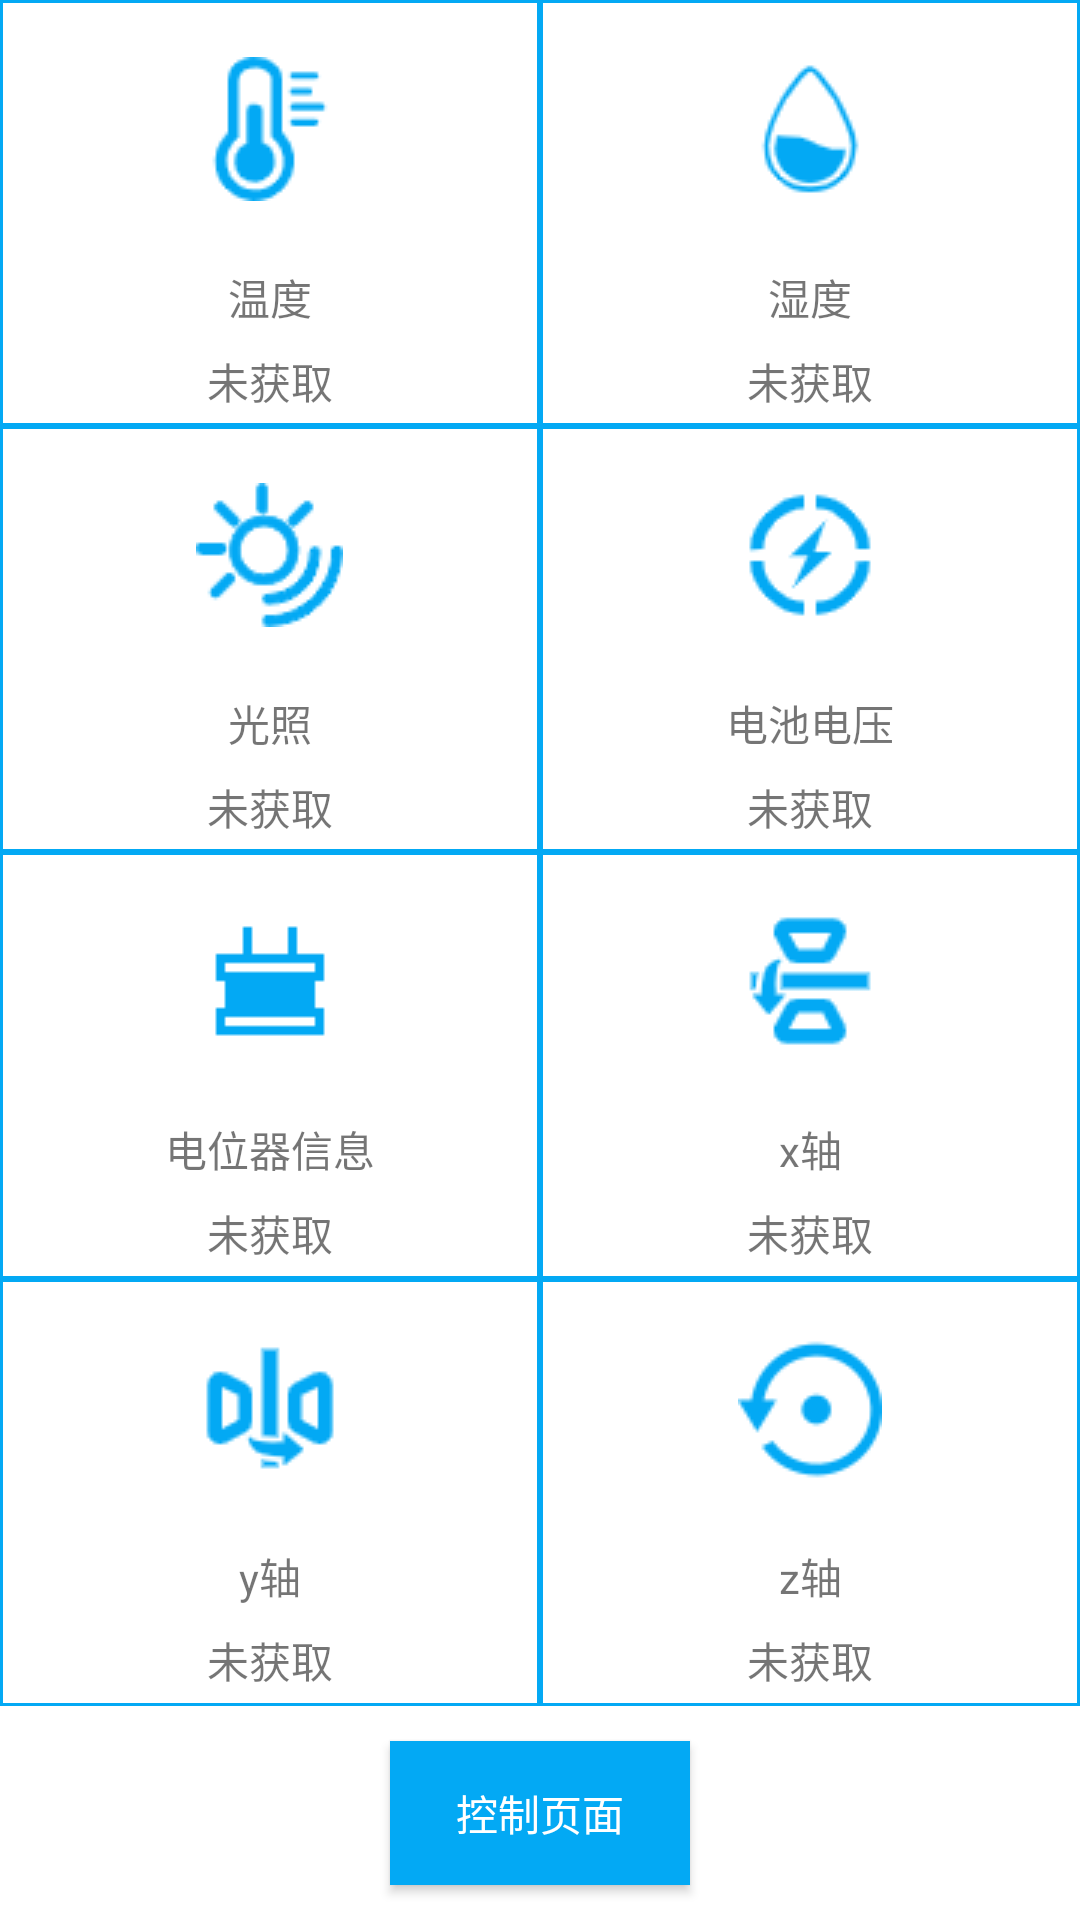

Named icons in this screenshot (1080 × 1920) and their centers, [x,y]:
axis: [810,981], [810,1409], [270,1408]
humidity: [810,129]
temperature: [270,129]
